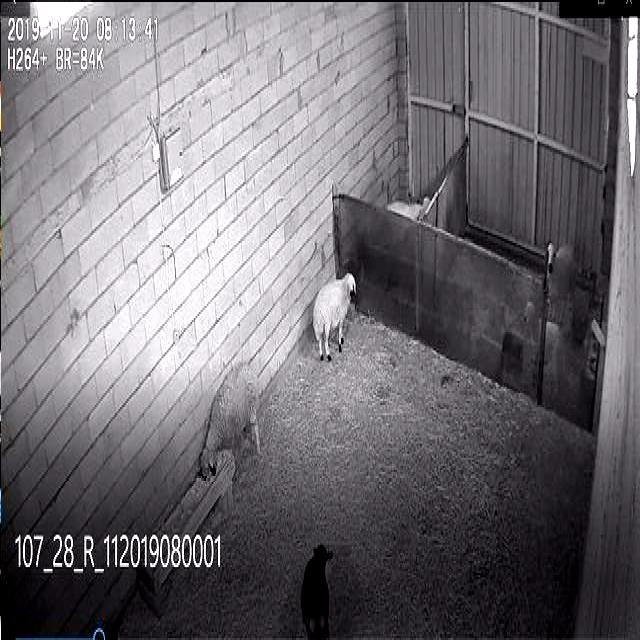sheep: (201, 361, 266, 477)
